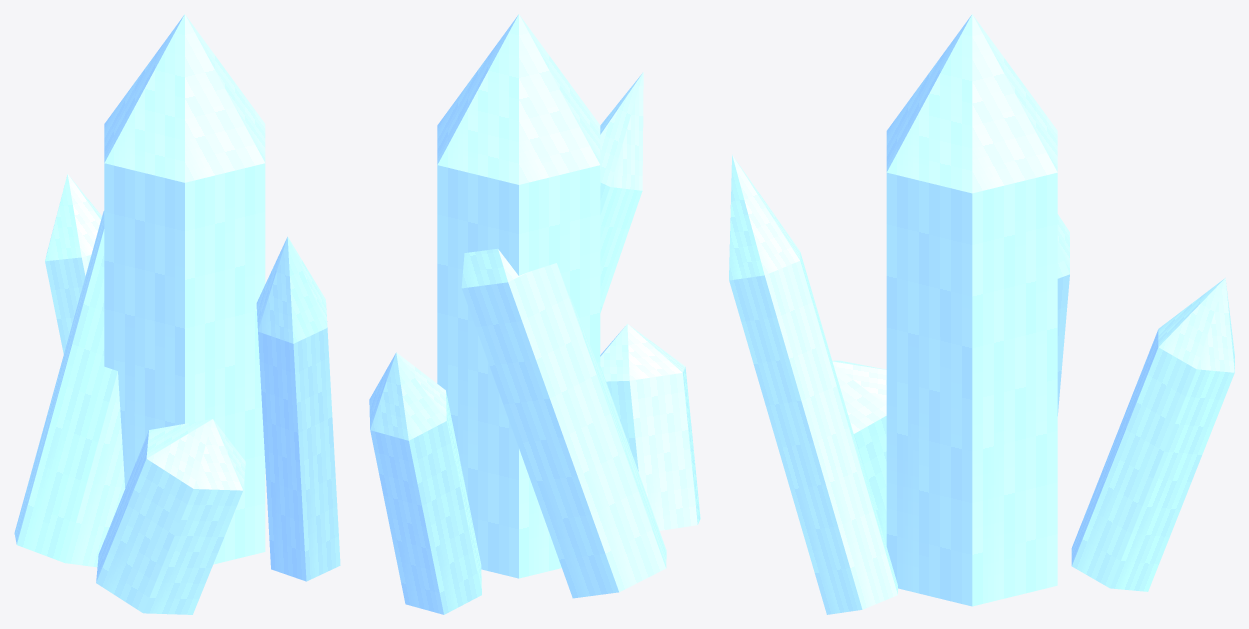
Rendered from cave-and-crystal-networks-glowing-crystals-bacf37de.glb.
3 renders of one model, left to right at view 1: azimuth 30°, elevation 25°; view 2: azimuth 150°, elevation 25°; view 3: azimuth 270°, elevation 25°, orthographic. The views are drawn at different scales.
Visible parts, largest first — view 1: glowing-crystals; view 2: glowing-crystals; view 3: glowing-crystals.
Part boxes in pixels (x1=…): glowing-crystals: x1=14, y1=14, x2=340, y2=614; glowing-crystals: x1=369, y1=14, x2=700, y2=614; glowing-crystals: x1=729, y1=14, x2=1234, y2=614.
Size of the model in its own units: 0.4189 by 0.8268 by 0.6657.
1 material, 1 textured.
